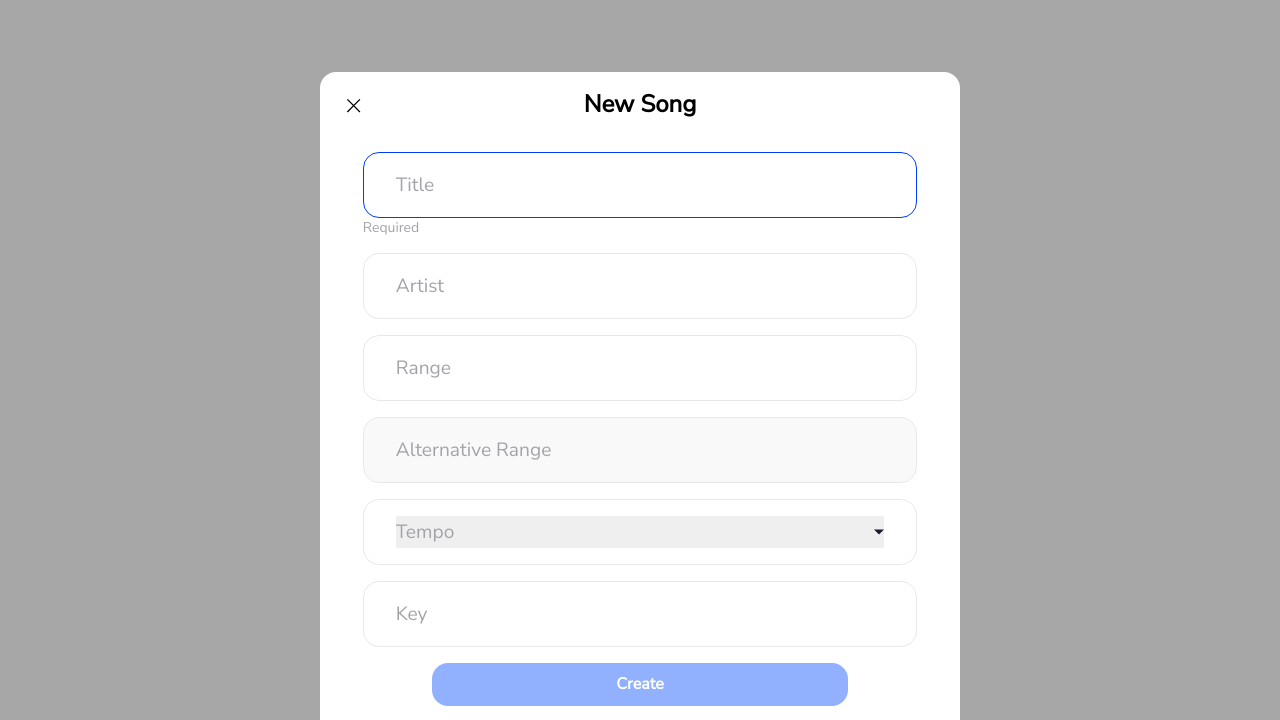
it: title › it enables create button when title is filled out
Step 1. Type "A Song Title" into the field labelled "Title" → (640, 177), box [396,153,884,201]
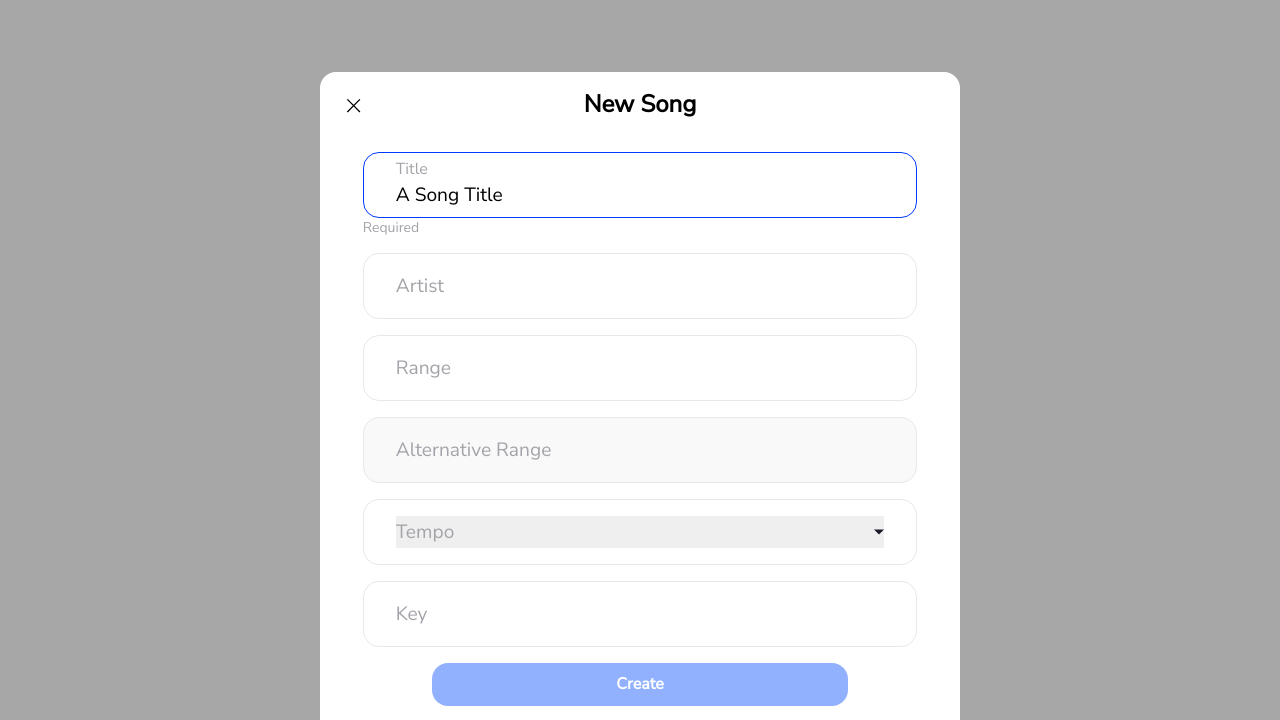
Step 2. Leave the field labelled "Title", box [396,163,884,211]
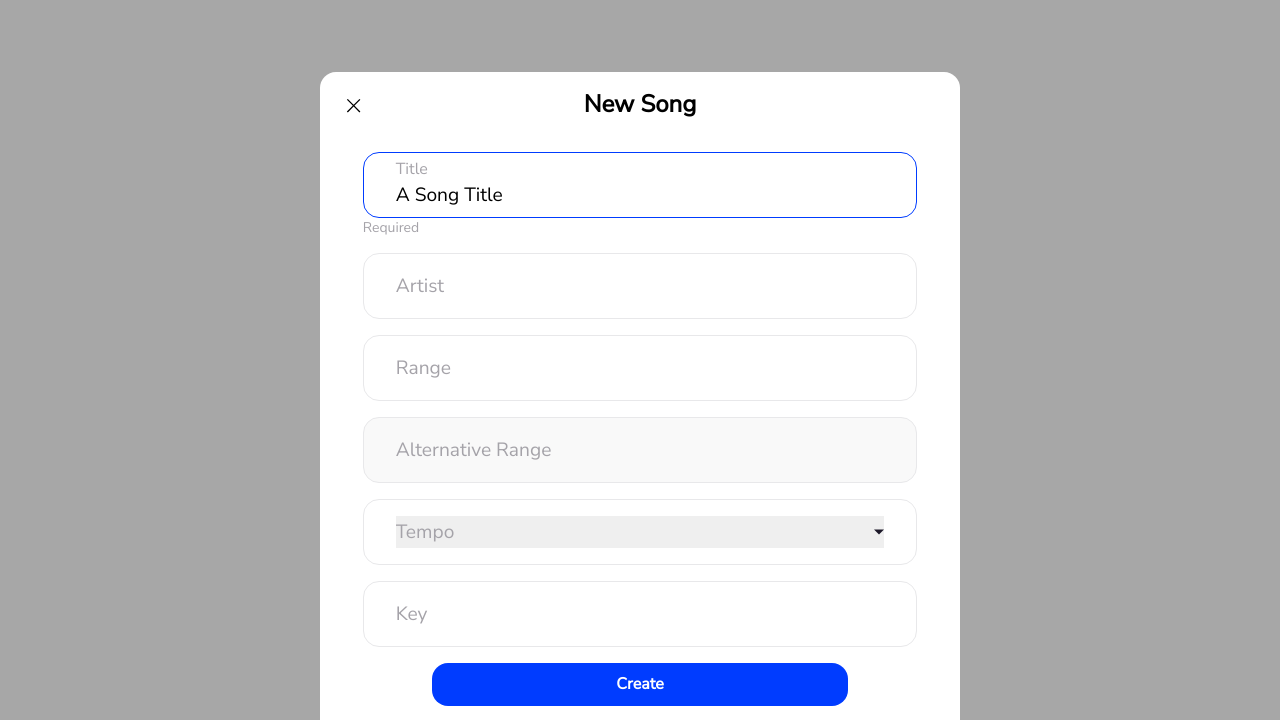
expect the button "Create" is enabled: met, box [432,663,848,706]
